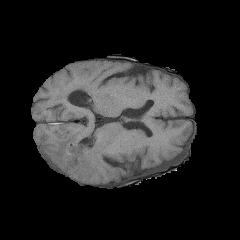glioma: (38, 95, 107, 178)
